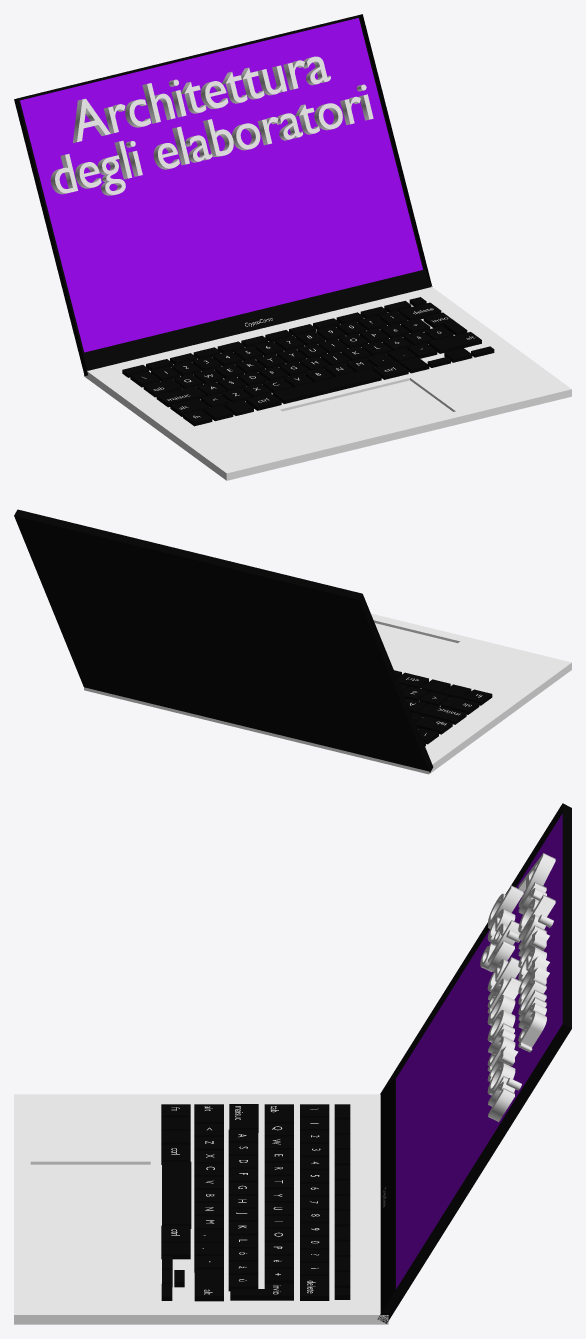
Rendered from architettura.glb.
3 renders of one model, top to bottom at view 1: azimuth 30°, elevation 25°; view 2: azimuth 150°, elevation 25°; view 3: azimuth 270°, elevation 25°, orthographic. The views are drawn at different scales.
Parts seen in each view (by area): view 1: Cube.073, Cube, Text, Cube.074, Text.001, Cube.001, Cube.072, Cube.123; view 2: Cube.001, Cube, Cube.065, Cube.064, Cube.066, Cube.071; view 3: Cube, Cube.073, Cube.001, Text, Text.001, Cube.074, Cube.072, Cube.123, Cube.065, Cube.027.
Part boxes in pixels (bbox=[...]): Cube.073: bbox=[20, 18, 422, 352]; Cube: bbox=[84, 286, 571, 480]; Text: bbox=[50, 84, 373, 195]; Cube.074: bbox=[82, 269, 431, 370]; Text.001: bbox=[73, 56, 330, 142]; Cube.001: bbox=[14, 14, 432, 375]; Cube.072: bbox=[272, 368, 381, 403]; Cube.123: bbox=[428, 332, 481, 353]; Cube.001: bbox=[14, 509, 433, 772]; Cube: bbox=[84, 613, 571, 774]; Cube.065: bbox=[417, 703, 466, 724]; Cube.064: bbox=[440, 696, 479, 714]; Cube.066: bbox=[415, 716, 452, 734]; Cube.071: bbox=[397, 672, 428, 688]; Cube: bbox=[14, 1094, 388, 1324]; Cube.073: bbox=[396, 813, 562, 1288]; Cube.001: bbox=[377, 803, 571, 1323]; Text: bbox=[480, 885, 523, 1121]; Text.001: bbox=[518, 853, 555, 1052]; Cube.074: bbox=[380, 1077, 396, 1313]; Cube.072: bbox=[162, 1161, 191, 1228]; Cube.123: bbox=[194, 1269, 223, 1301]; Cube.065: bbox=[229, 1104, 258, 1132]; Cube.027: bbox=[300, 1276, 329, 1300].
Size of the model in its own units: 6.79 by 4.31 by 7.25.
